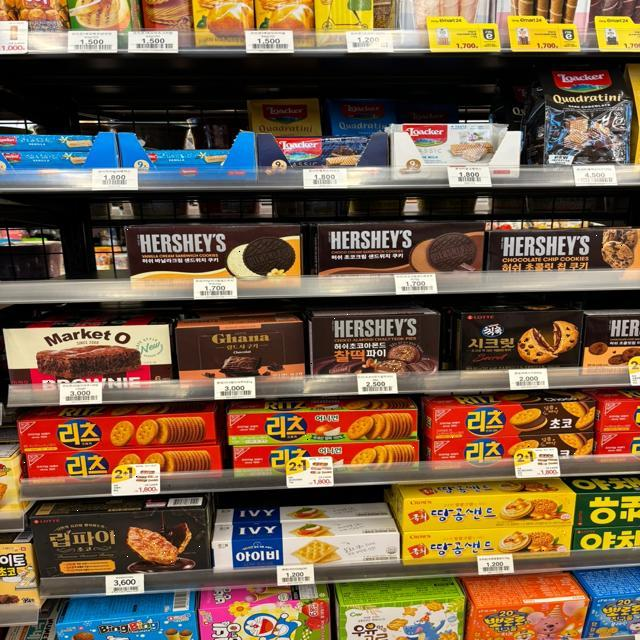product: (23, 506, 209, 578), (11, 320, 174, 387), (126, 229, 302, 283), (309, 309, 442, 375), (18, 410, 215, 452), (181, 318, 307, 383), (322, 225, 485, 274), (17, 450, 219, 487), (465, 303, 585, 365), (228, 445, 420, 478), (233, 406, 415, 440), (210, 537, 397, 570), (405, 497, 574, 532), (497, 233, 640, 271), (407, 530, 574, 562), (437, 400, 592, 432), (437, 432, 591, 459)
